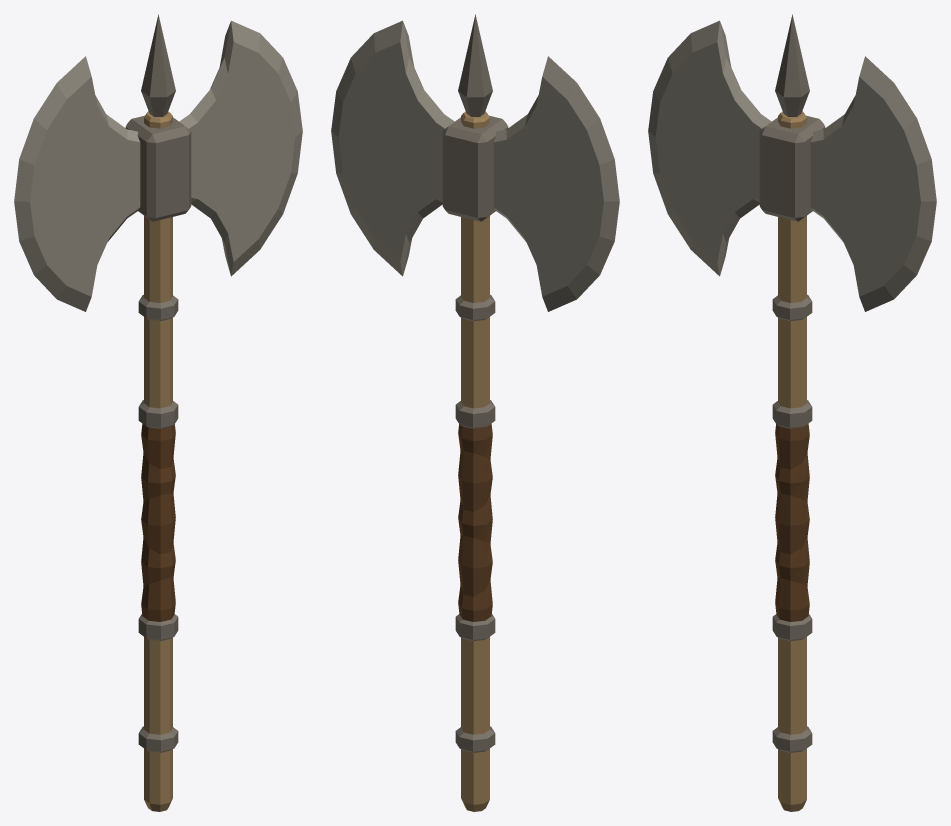
Rendered from double-bit-greataxe-d4f81b.glb.
The picture shows the model from 3 angles, left to right: view 1: azimuth 30°, elevation 25°; view 2: azimuth 150°, elevation 25°; view 3: azimuth 330°, elevation 25°; orthographic projection.
Parts seen in each view (by area): view 1: greataxe-body; view 2: greataxe-body; view 3: greataxe-body.
Boxes of the visible parts, x1,y1,x2,y2 form: greataxe-body: (14,14,302,811); greataxe-body: (331,14,619,811); greataxe-body: (648,14,936,811).
Size of the model in its own units: 0.476 by 1.25 by 0.08.
